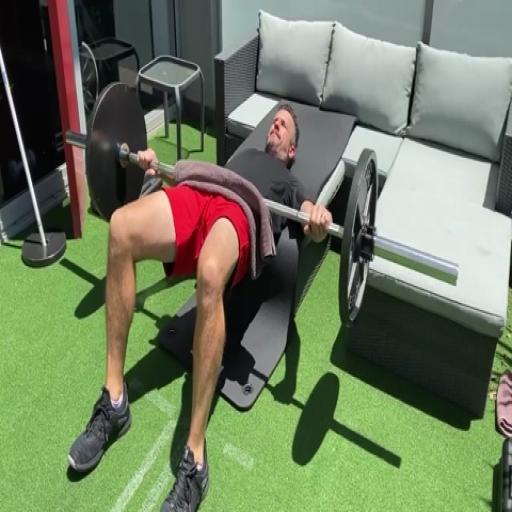exercise: (66, 100, 334, 510)
